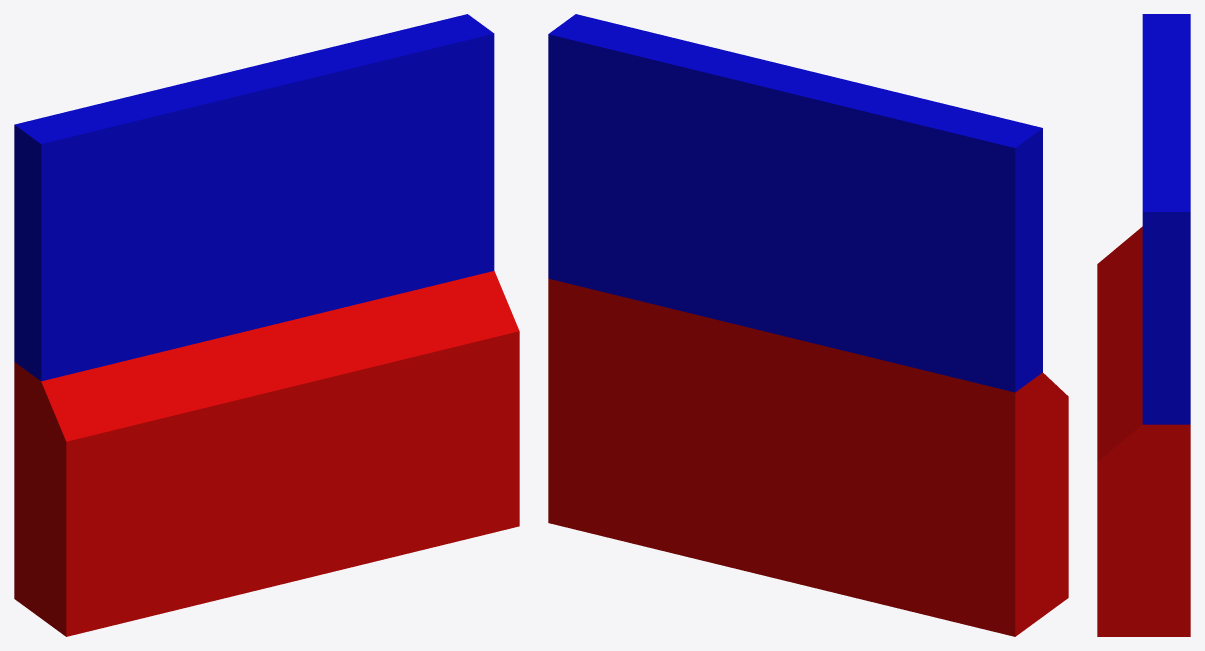
The model's file is Wall.gltf.
3 views of the same model, side by side, from view 1: azimuth 30°, elevation 25°; view 2: azimuth 150°, elevation 25°; view 3: azimuth 270°, elevation 25° (orthographic). The views are drawn at different scales.
Parts seen in each view (by area): view 1: Wall; view 2: Wall; view 3: Wall.
Boxes of the visible parts, x1,y1,x2,y2 form: Wall: (14,14,519,636); Wall: (548,14,1068,636); Wall: (1097,14,1190,636).
Size of the model in its own units: 4 by 4 by 0.7937.
